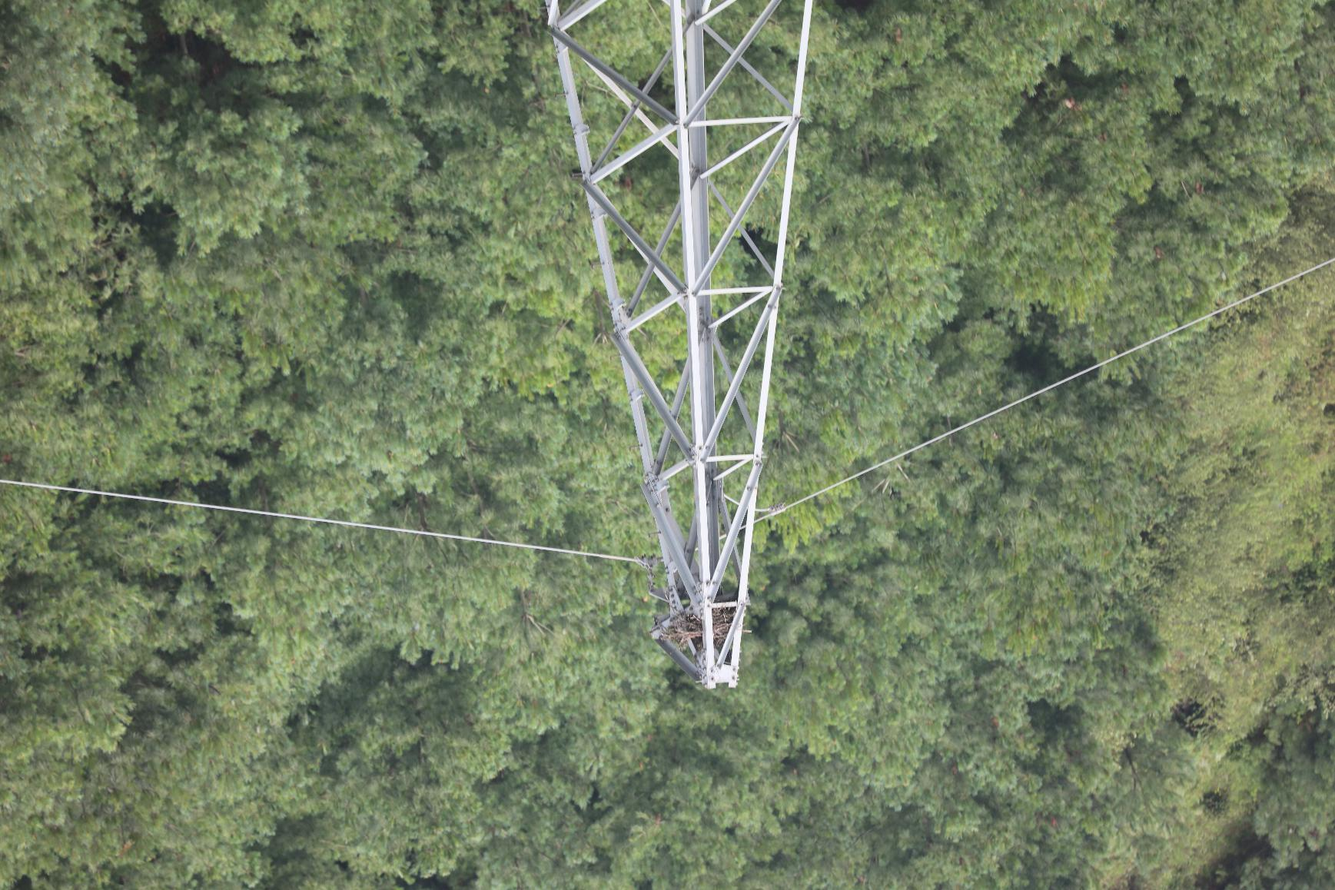nest: (659, 606, 738, 649)
